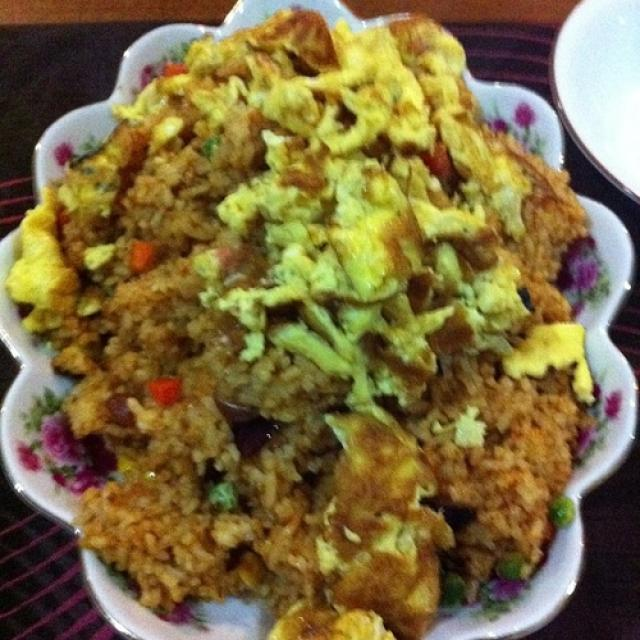米饭主食: (23, 28, 589, 634)
